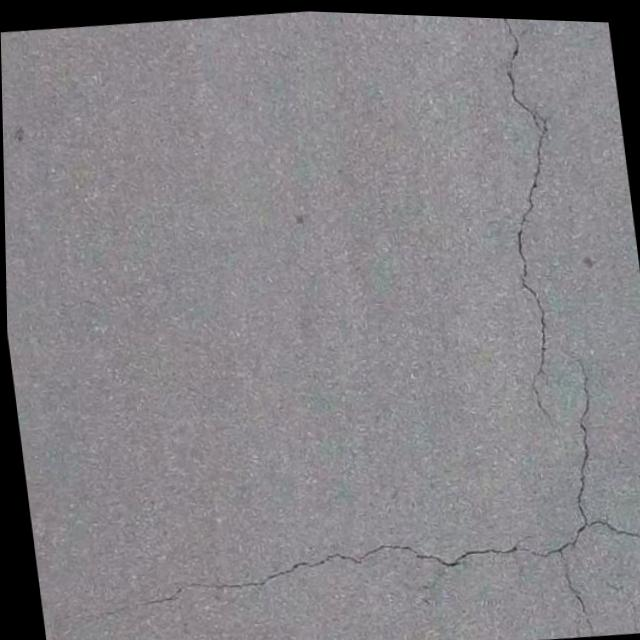Crack: (454, 13, 621, 638), (95, 500, 534, 640), (585, 482, 640, 565)
